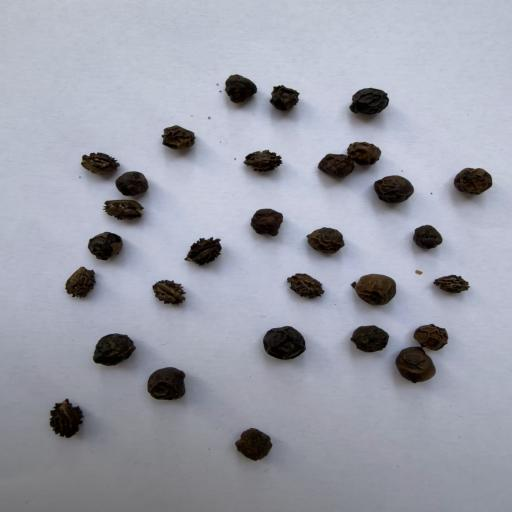Black_pepper: (86, 321, 138, 358), (229, 414, 277, 454), (257, 317, 306, 353), (349, 264, 395, 298), (348, 80, 393, 114), (148, 357, 189, 393), (390, 340, 434, 372), (85, 223, 127, 255), (344, 316, 388, 346), (308, 217, 346, 251), (157, 113, 200, 143), (454, 158, 494, 190), (222, 65, 259, 99), (412, 312, 454, 341), (246, 200, 282, 232), (348, 131, 388, 159), (406, 216, 443, 246), (115, 162, 154, 190), (270, 78, 305, 107), (374, 169, 410, 197), (320, 149, 354, 175)
papaya_seed: (28, 391, 98, 445), (58, 262, 109, 306), (179, 230, 228, 270), (144, 272, 193, 310), (239, 143, 286, 180), (284, 268, 328, 304), (426, 268, 475, 300), (97, 194, 149, 220), (70, 147, 110, 179)
